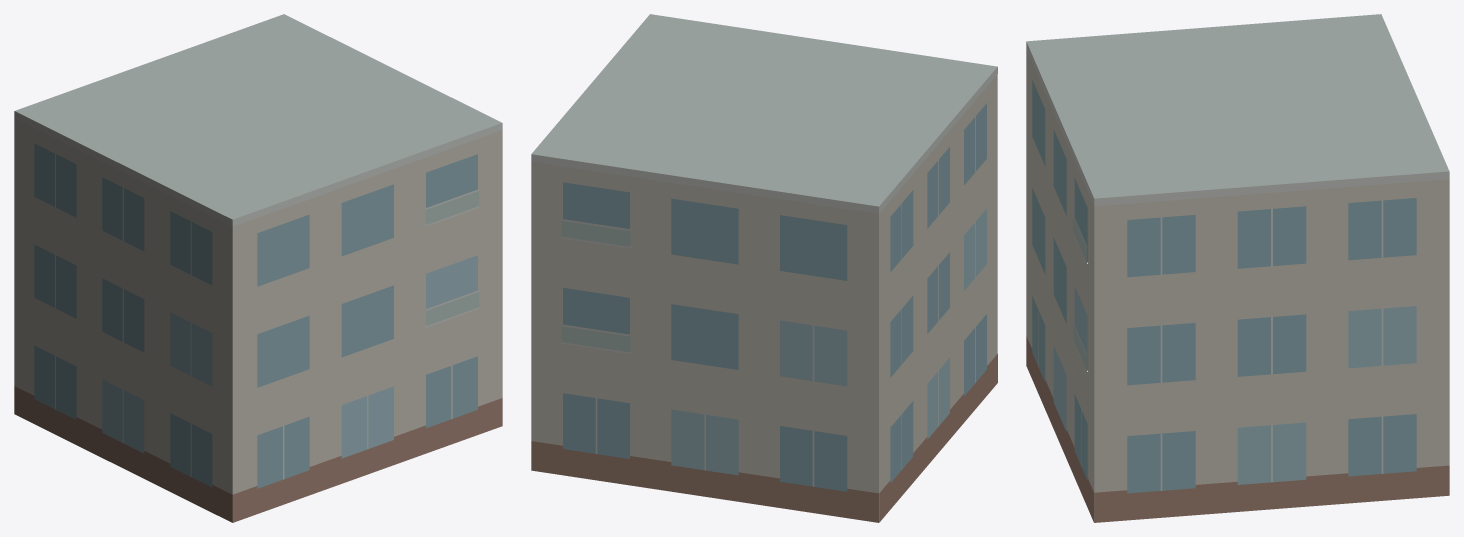
The model's file is survey-upis-33044501.glb.
3 renders of one model, left to right at view 1: azimuth 30°, elevation 25°; view 2: azimuth 150°, elevation 25°; view 3: azimuth 270°, elevation 25°, orthographic. The views are drawn at different scales.
Visible parts, largest first — view 1: survey-upis-33044501.tmp; view 2: survey-upis-33044501.tmp; view 3: survey-upis-33044501.tmp.
Boxes of the visible parts, x1=… form: survey-upis-33044501.tmp: x1=14, y1=14, x2=502, y2=522; survey-upis-33044501.tmp: x1=531, y1=14, x2=997, y2=522; survey-upis-33044501.tmp: x1=1026, y1=14, x2=1449, y2=522.
Bounding box in the file's own units: 12.71 × 10.4 × 12.31.
